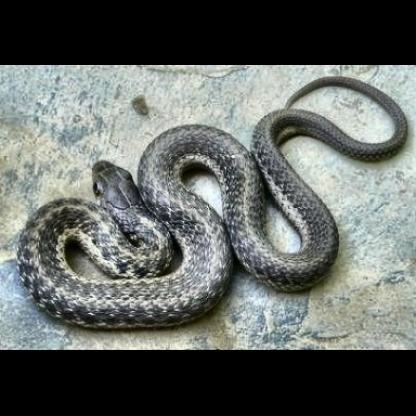Snake: (10, 78, 409, 330)
